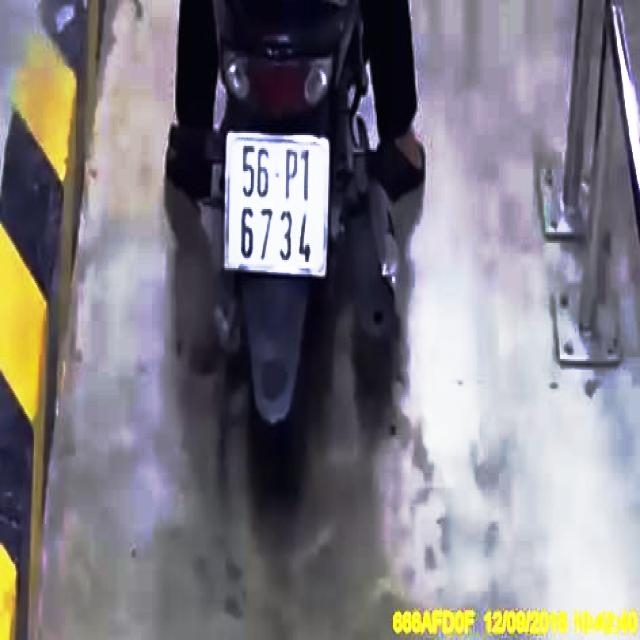license_plate: (225, 136, 331, 280)
